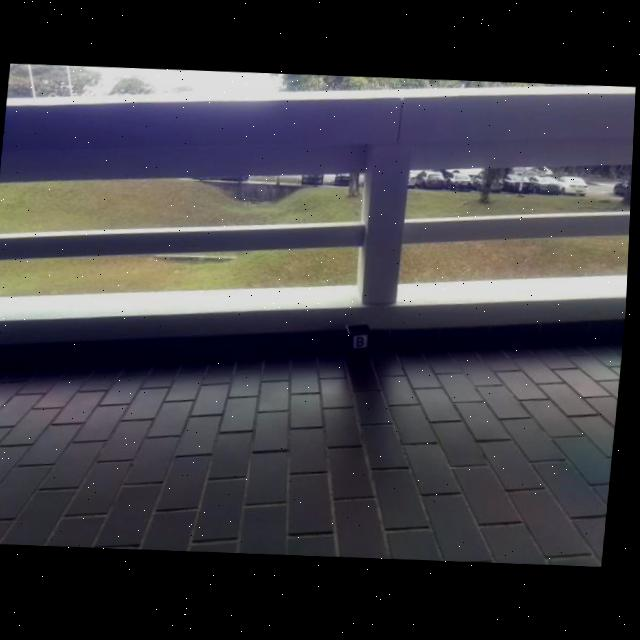B: (359, 337, 368, 350)
